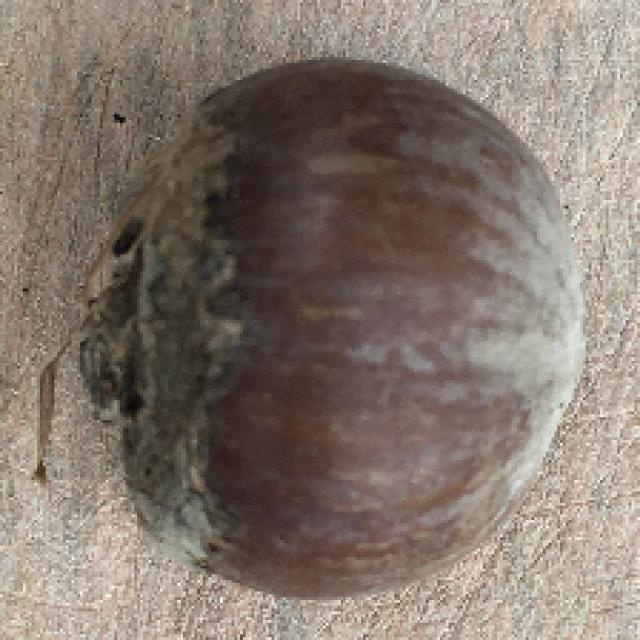DamagedHazelnut: (78, 67, 589, 593)
